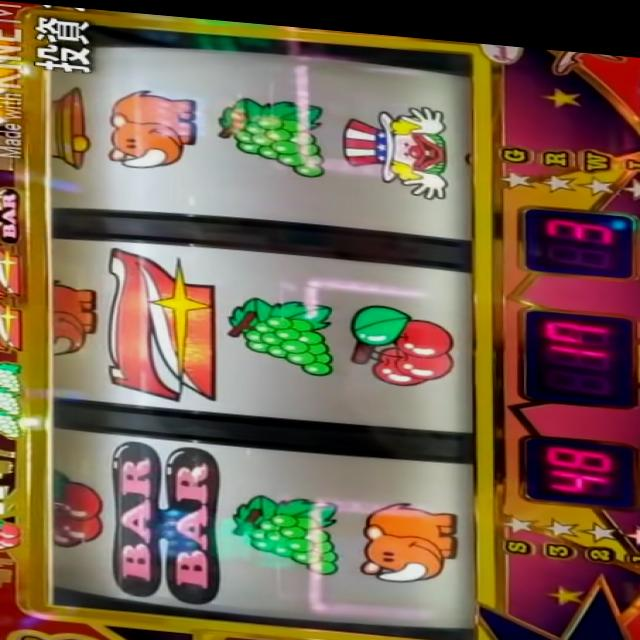bar: (106, 435, 224, 601), (0, 186, 22, 244)
bell: (49, 80, 92, 170)
cherry: (348, 290, 456, 382), (48, 465, 104, 550), (0, 518, 25, 554)
clown: (341, 89, 457, 195)
display: (41, 13, 478, 637)
elephant: (355, 485, 462, 580), (106, 81, 197, 171), (50, 276, 100, 359)
grape: (229, 483, 347, 571), (223, 284, 340, 372), (215, 88, 334, 174), (0, 358, 25, 392), (0, 412, 24, 442), (1, 389, 25, 414)
z: (100, 241, 220, 400), (0, 248, 29, 300), (0, 302, 24, 353)
